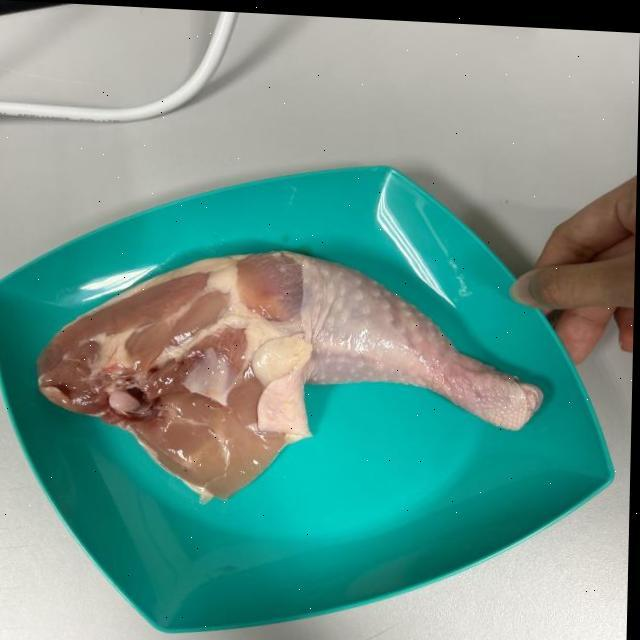quater: (60, 230, 548, 478)
